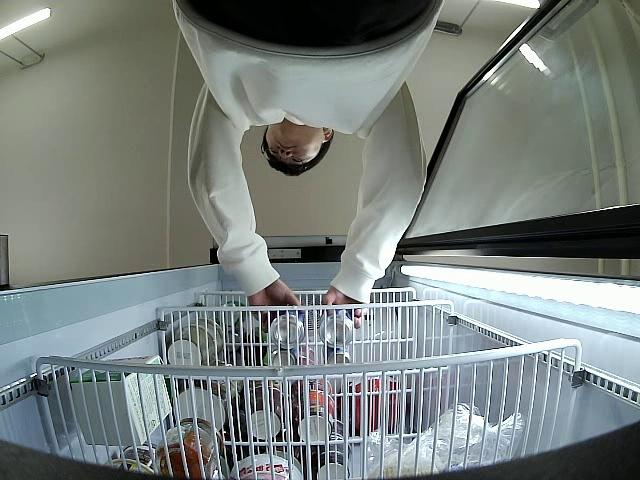00_hand: (249, 280, 306, 327), (321, 286, 365, 331)
